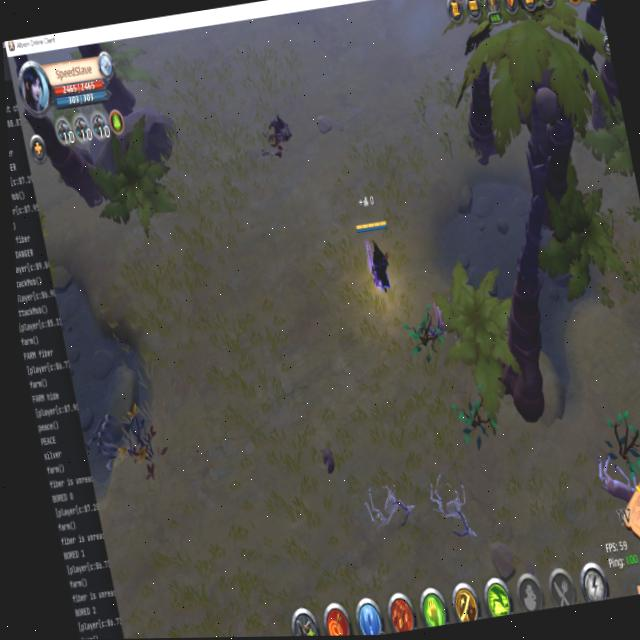mob: (590, 449, 640, 507), (423, 295, 455, 349)
red: (353, 215, 401, 298)
